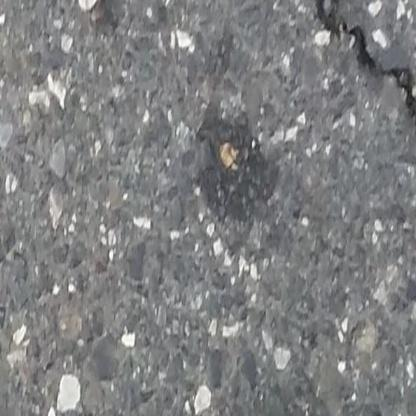Cracks: (308, 0, 416, 171)
